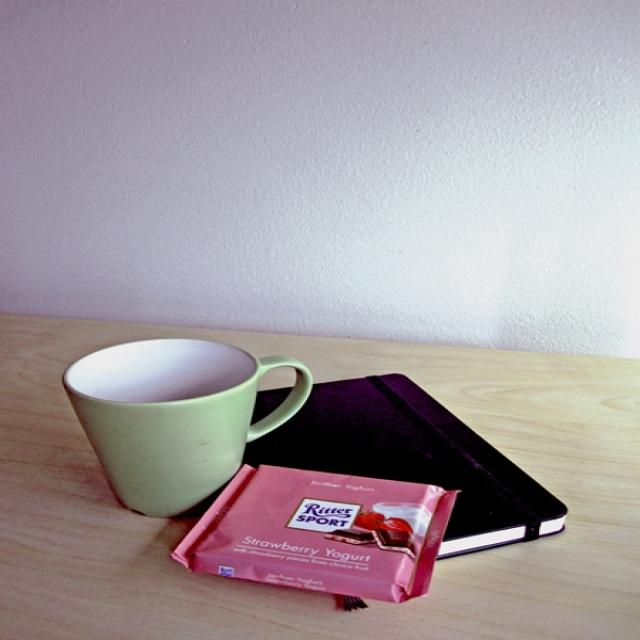rittersport: (284, 498, 367, 540)
